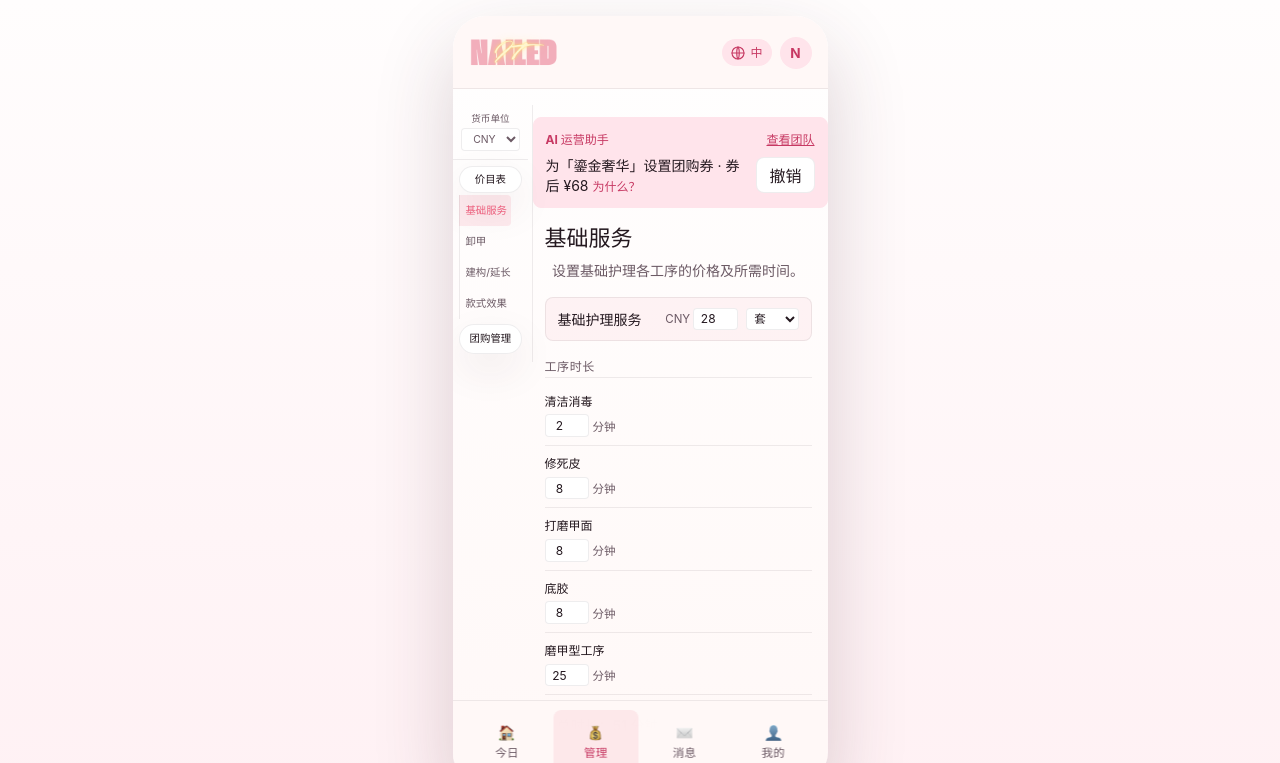
Test: MerchantManagePage › returns from detail to list when clicking 返回
Check: the number field named "基础护理服务 单价" is shown, box [693,308,738,330]
Step 1. Click the button "团购管理" → (490, 339), box [459,324,522,354]
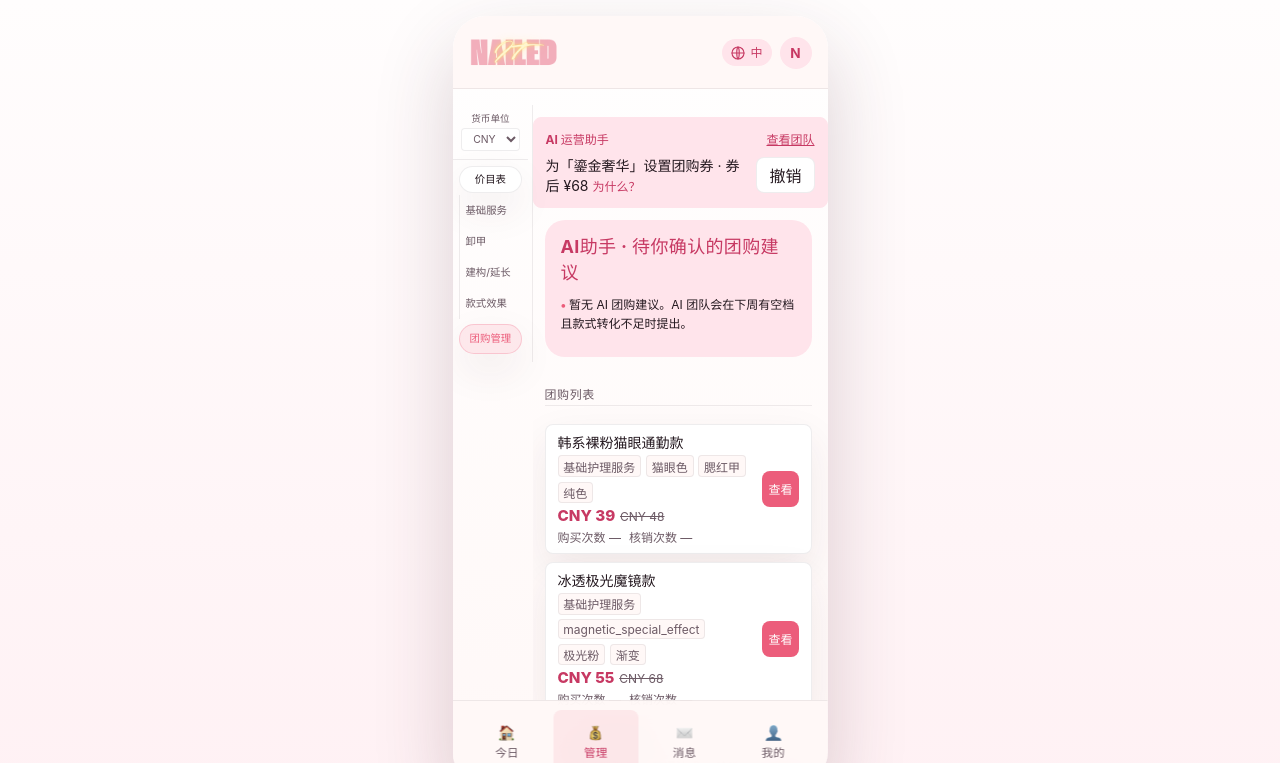
Step 2. Click the button "查看" next to "腮红甲" → (780, 489), box [762,471,798,507]
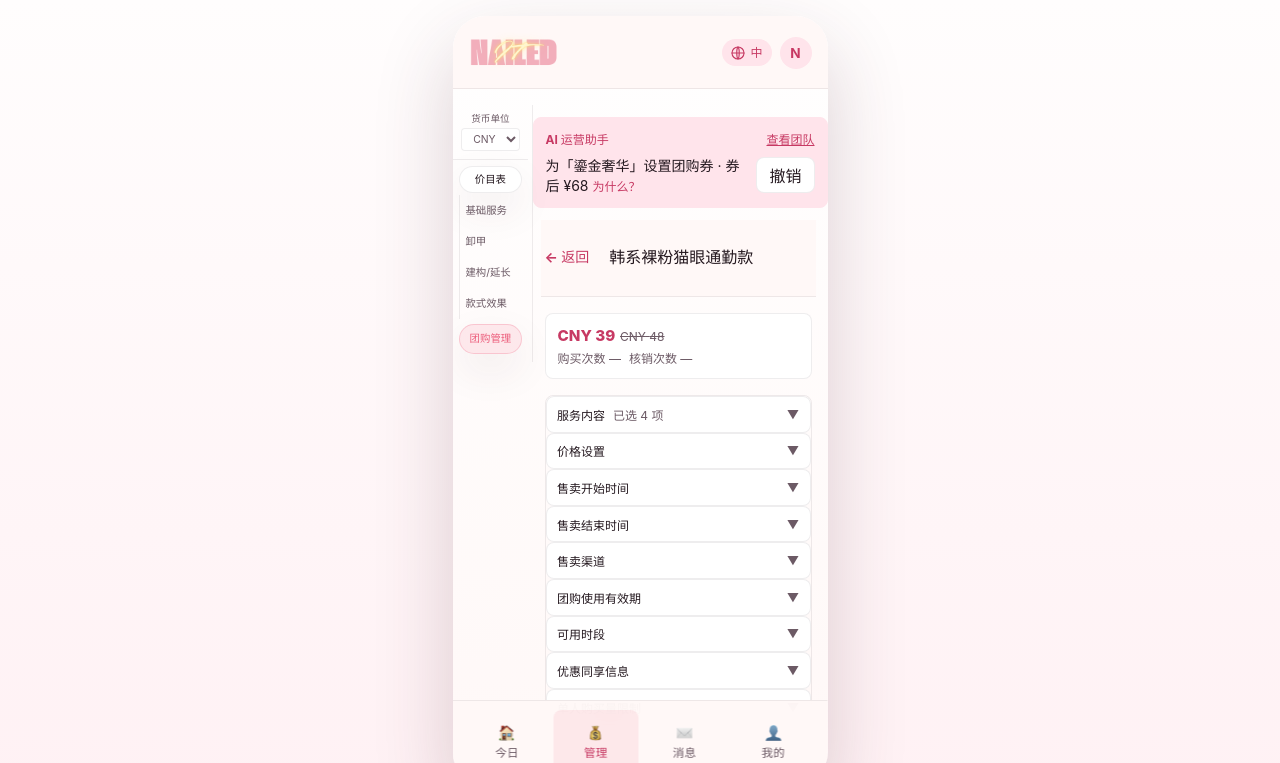
Step 3. Click the button "← 返回" → (571, 256), box [544,238,597,274]
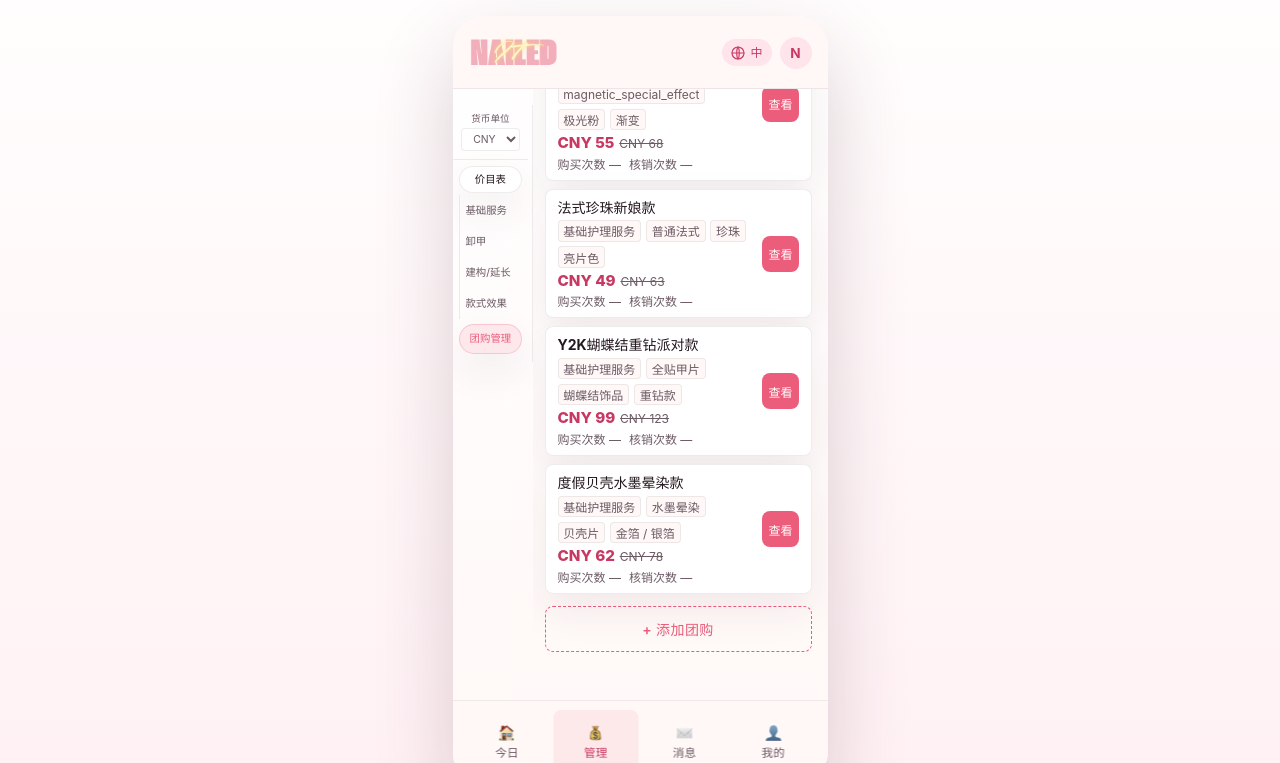
Check: the button "修改" is not shown
Check: the button "+ 添加团购" is shown, box [544,606,812,652]
